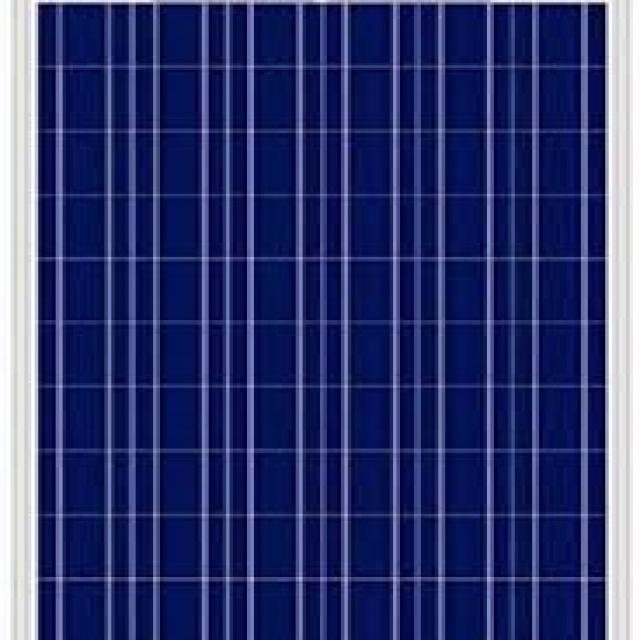no faulty: (17, 4, 619, 640)
